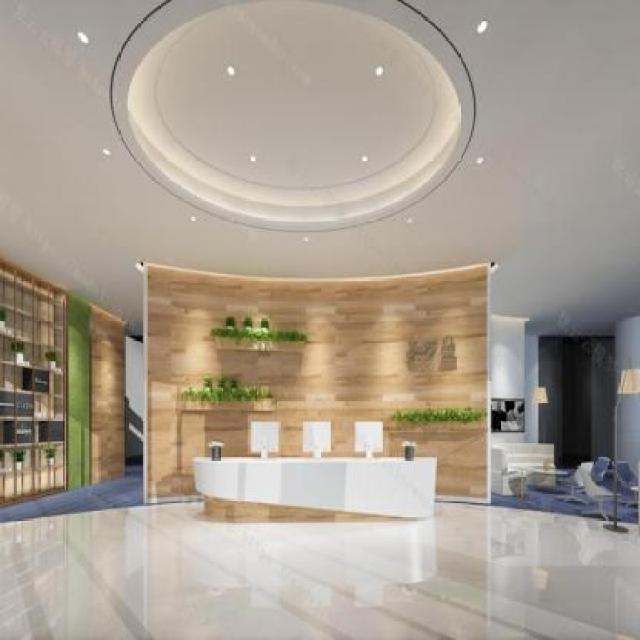frontdesk: (191, 416, 440, 530)
